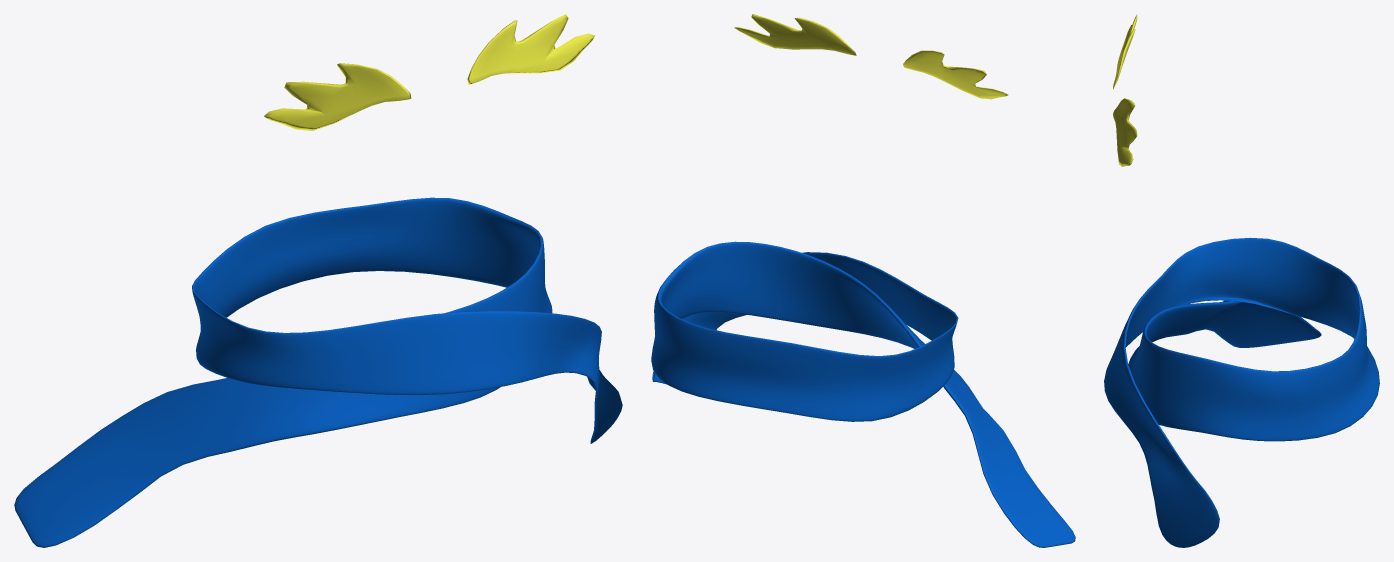
File: hirkali.fbx
3 views of the same model, side by side, from view 1: azimuth 30°, elevation 25°; view 2: azimuth 150°, elevation 25°; view 3: azimuth 270°, elevation 25° (orthographic). The views are drawn at different scales.
Visible parts, largest first — view 1: hirka, polySurface5, polySurface4; view 2: hirka, polySurface4, polySurface5; view 3: hirka, polySurface4, polySurface5.
Part boxes in pixels (x1,y1,x2,y2): hirka: (14,197,622,547); polySurface5: (264,63,411,130); polySurface4: (467,14,594,84); hirka: (651,241,1075,547); polySurface4: (734,14,856,55); polySurface5: (903,50,1008,99); hirka: (1104,237,1379,547); polySurface4: (1113,98,1137,166); polySurface5: (1113,15,1137,89).
Bounding box in the file's own units: 110 × 92.69 × 55.93.
